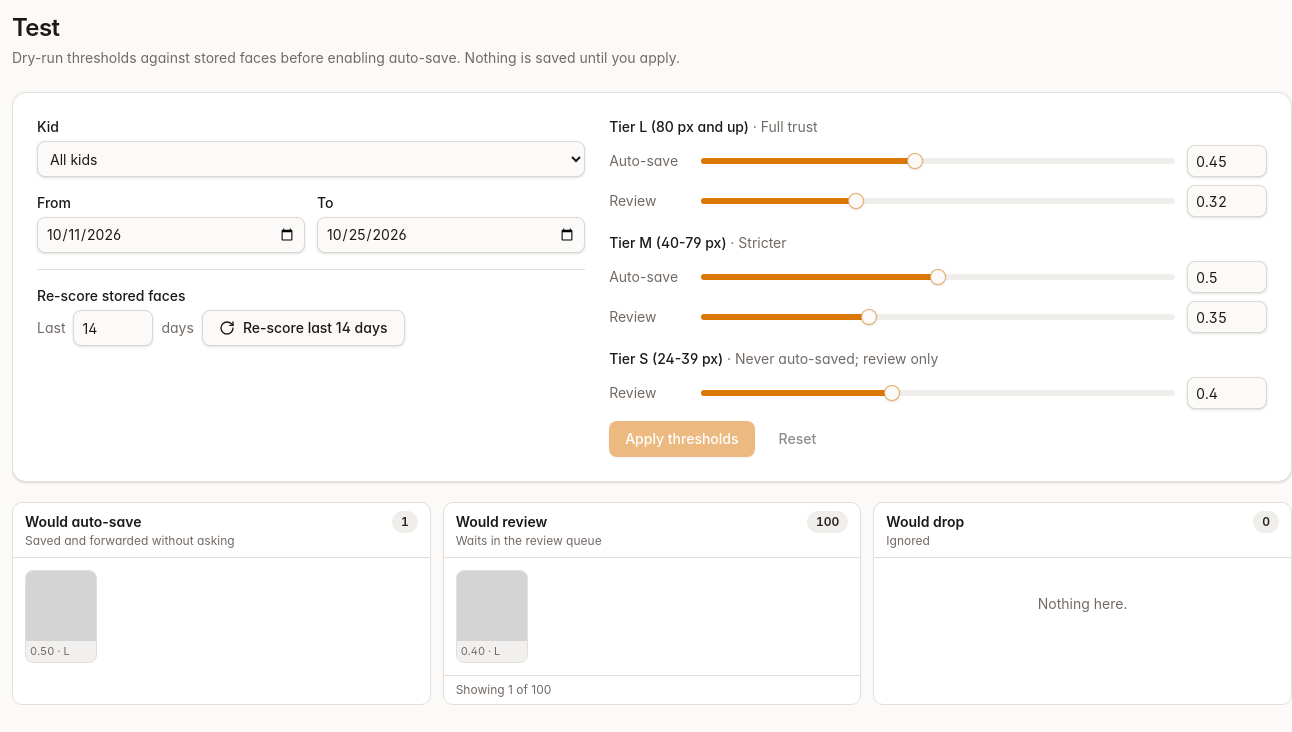
Test: TestPage › blocks invalid thresholds locally and does not re-score
Expected: the element "Would review" is shown, [443,502,861,705]
Replace the text in the number field named "Tier L auto-save" with "0.2" at (1227, 161), box [1187,145,1267,177]
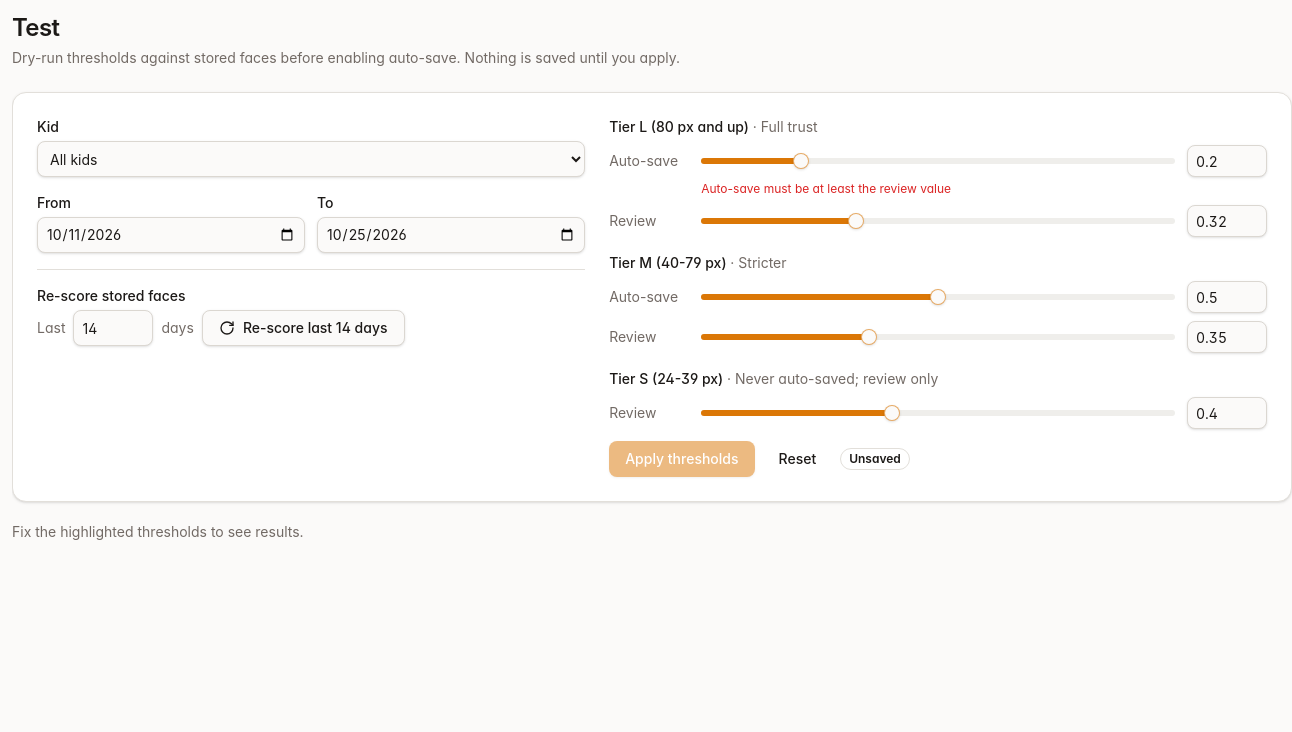
Expected: the button "Apply thresholds" is disabled, [609,441,755,477]
Now the text "Auto-save must be at least the review value" is shown, box [701,181,951,196]
